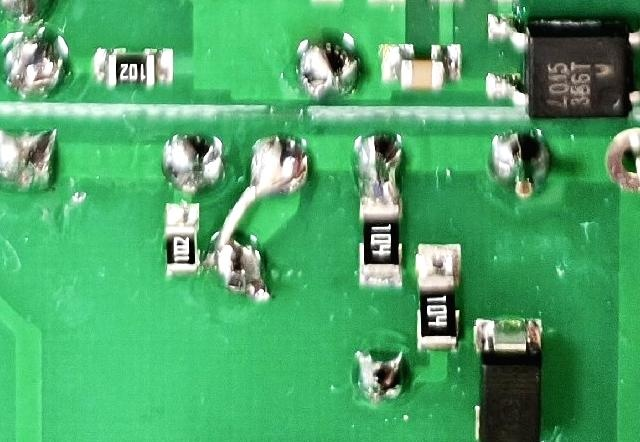chip-capacitor: (378, 41, 465, 90)
chip-resistor: (411, 240, 461, 356), (355, 191, 404, 289), (90, 45, 175, 91), (161, 197, 203, 281)
diode: (469, 314, 547, 442)
ic: (482, 8, 640, 120)
